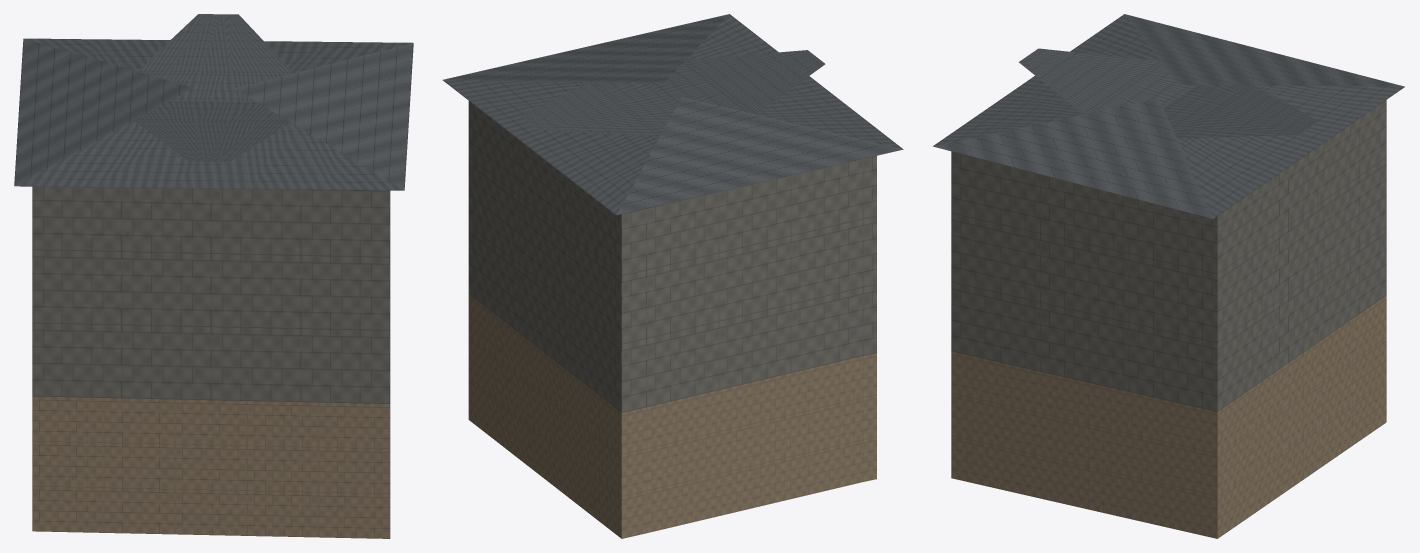
File: bld_c21_44_390.gltf
3 views of the same model, side by side, from view 1: azimuth 30°, elevation 25°; view 2: azimuth 150°, elevation 25°; view 3: azimuth 270°, elevation 25° (orthographic). The views are drawn at different scales.
Visible parts, largest first — view 1: bld_c21_44_390; view 2: bld_c21_44_390; view 3: bld_c21_44_390.
Part boxes in pixels (bbox=[...]): bld_c21_44_390: bbox=[14, 14, 413, 538]; bld_c21_44_390: bbox=[442, 14, 903, 538]; bld_c21_44_390: bbox=[933, 14, 1404, 538].
Size of the model in its own units: 17.67 by 14.4 by 17.21.
Materials: 3 (3 with a texture image).
